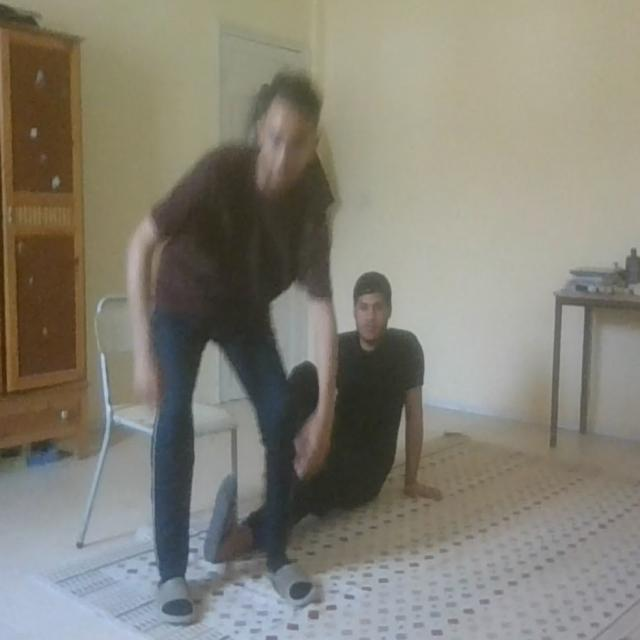non_violence: (109, 29, 448, 552), (90, 59, 319, 632)
